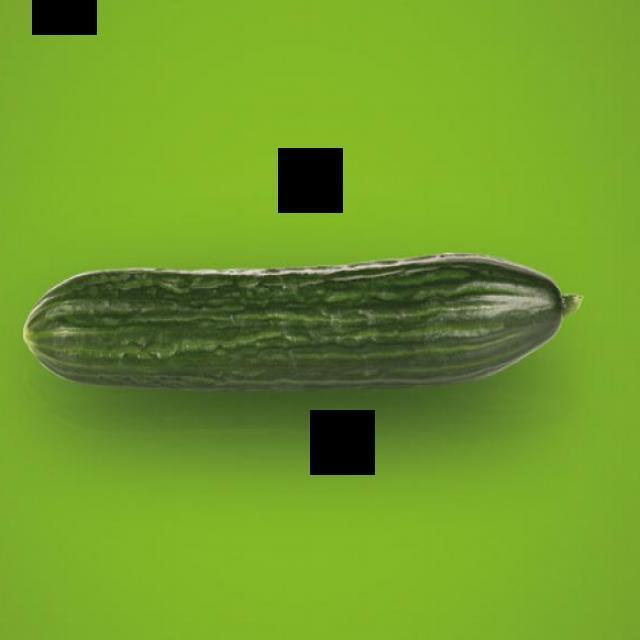cucumber: (20, 250, 586, 398)
